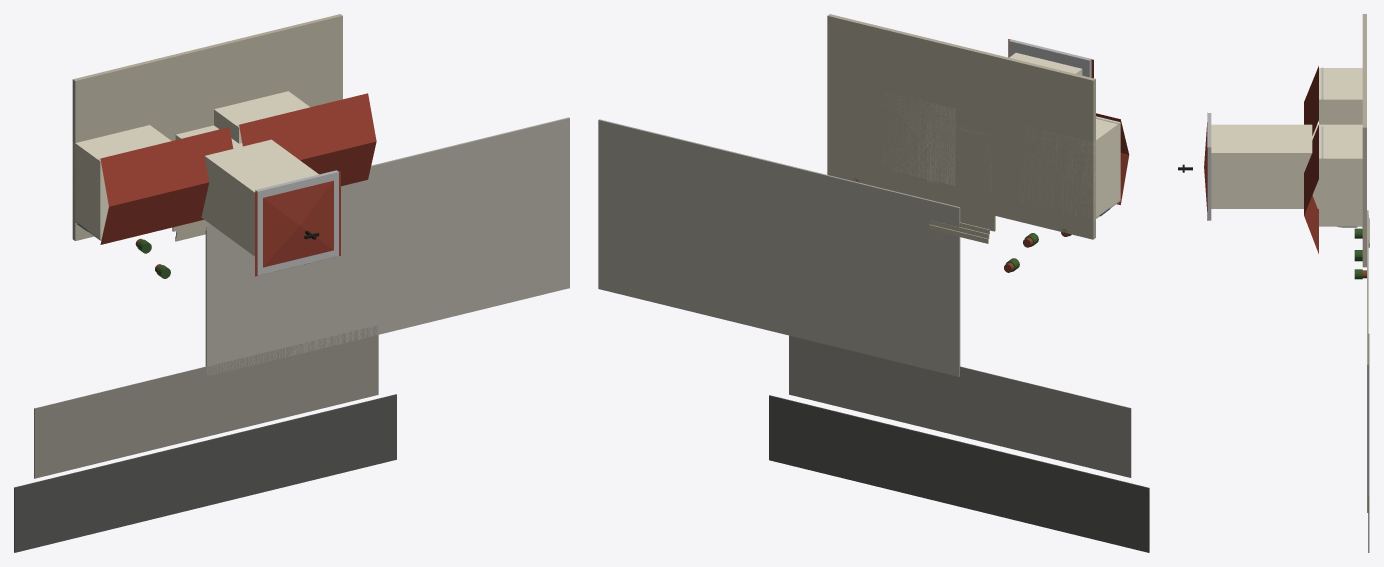
The model's file is mother_of_perpetual_help_parish.obj.
3 views of the same model, side by side, from view 1: azimuth 30°, elevation 25°; view 2: azimuth 150°, elevation 25°; view 3: azimuth 270°, elevation 25° (orthographic). The views are drawn at different scales.
Parts seen in each view (by area): view 1: Site paving, Roadway, Forecourt apron, Main building plinth, Left wing roof, Right wing roof, Upturned red tower roof, Left wing wall mass, Tower upper left pier, Tower roof soffit, Right wing wall mass, Tower rear upper pier; view 2: Site paving, Main building plinth, Roadway, Forecourt apron, Left wing wall mass, Right wing wall mass, Tower roof soffit, Entry step {i+1}; view 3: Tower upper right pier, Right wing wall mass, Left wing wall mass, Tower rear upper pier, Main building plinth, Right wing roof, Left wing roof, Site paving, Tower lower right pier, Tower roof soffit, Tower upper left pier, Roadway (+3 smaller).
Part boxes in pixels (<box>): Site paving: <box>205,117,569,376</box>; Roadway: <box>14,394,396,552</box>; Forecourt apron: <box>34,325,378,478</box>; Main building plinth: <box>72,14,342,240</box>; Left wing roof: <box>100,127,233,244</box>; Right wing roof: <box>239,93,376,186</box>; Upturned red tower roof: <box>255,171,340,276</box>; Left wing wall mass: <box>72,125,171,239</box>; Tower upper left pier: <box>211,158,264,256</box>; Tower roof soffit: <box>255,170,338,275</box>; Right wing wall mass: <box>214,91,309,143</box>; Tower rear upper pier: <box>225,148,305,187</box>; Site paving: <box>598,119,960,376</box>; Main building plinth: <box>827,14,1095,239</box>; Roadway: <box>769,395,1149,552</box>; Forecourt apron: <box>789,335,1131,477</box>; Left wing wall mass: <box>1019,116,1120,217</box>; Right wing wall mass: <box>882,91,955,185</box>; Tower roof soffit: <box>1009,39,1091,77</box>; Entry step {i+1}: <box>929,220,989,243</box>; Tower upper right pier: <box>1211,147,1299,208</box>; Right wing wall mass: <box>1319,127,1362,226</box>; Left wing wall mass: <box>1319,68,1362,124</box>; Tower rear upper pier: <box>1211,130,1299,147</box>; Main building plinth: <box>1362,14,1366,267</box>; Right wing roof: <box>1304,125,1318,253</box>; Left wing roof: <box>1304,66,1318,135</box>; Site paving: <box>1367,210,1368,512</box>; Tower lower right pier: <box>1299,148,1318,208</box>; Tower roof soffit: <box>1207,113,1211,220</box>; Tower upper left pier: <box>1211,124,1299,129</box>; Roadway: <box>1368,334,1369,552</box>.
Size of the model in its own units: 58 by 46 by 19.95.
